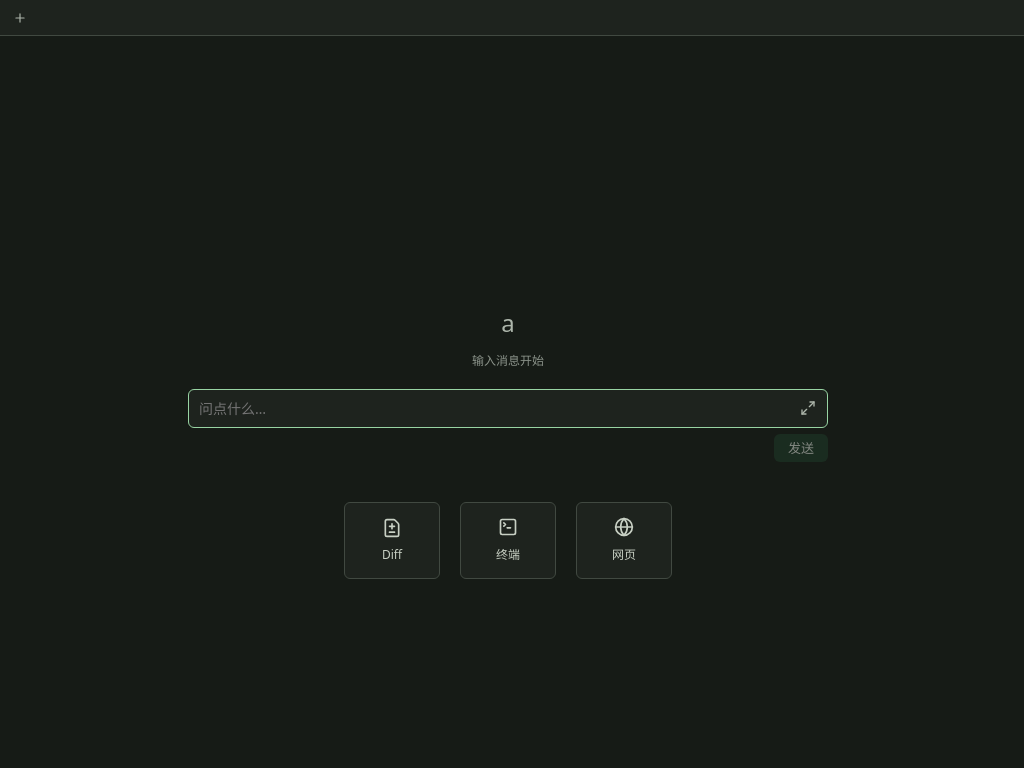
Test: 专注模式（design-focus-mode） › 专注模式复用原发送按钮（§3.2 变形语义）：面板内无发送钮，点底部发送行发送并退回
The image size is (1024, 768).
Type "专注内发送" into the text box with placeholder "问点什么…".
click(495, 408); type("专注内发送")  # box [197,395,793,422]
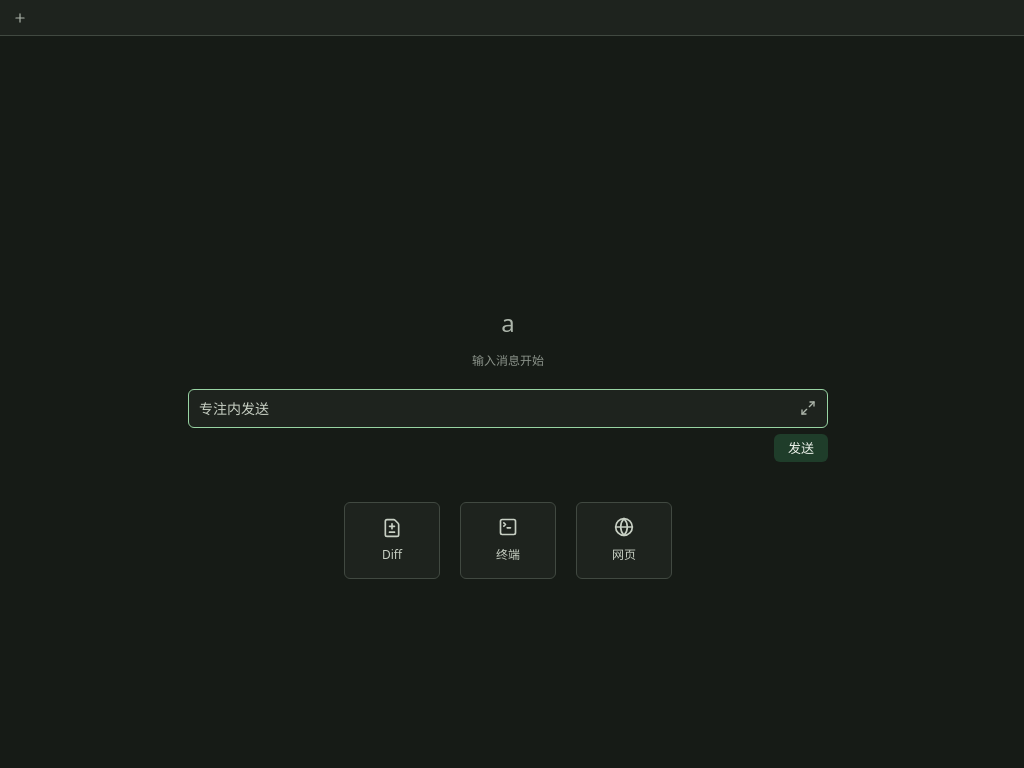
Click the button with class "focus-enter".
click(808, 408)  # box [797,397,819,419]
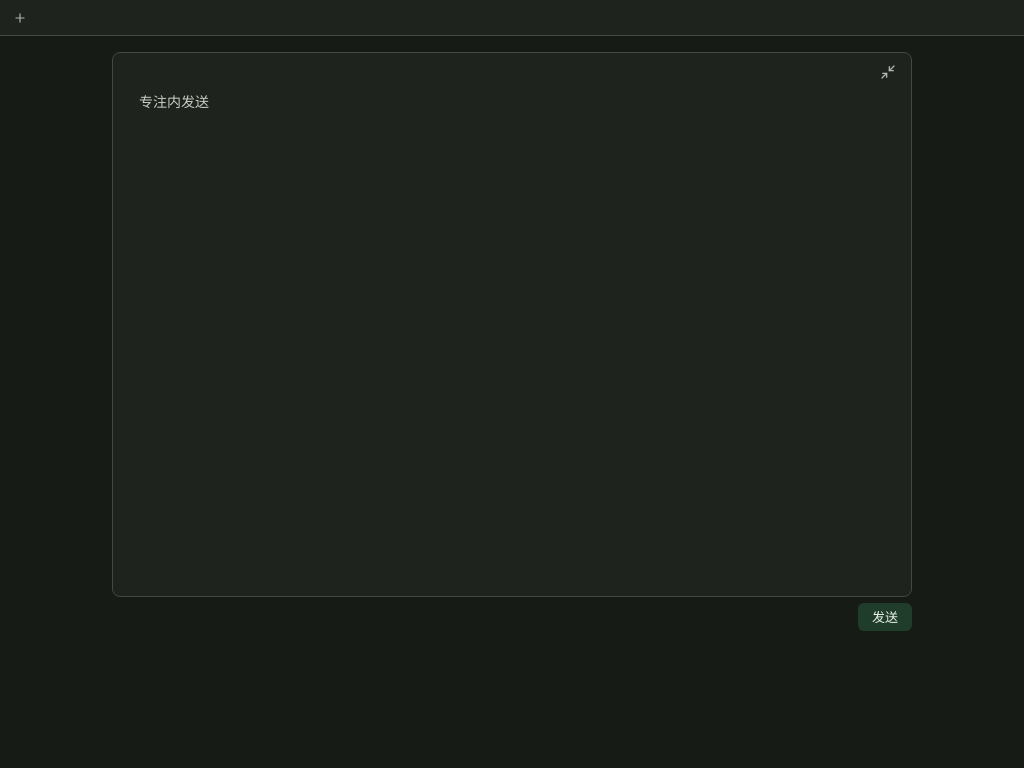
Expected: the button "发送" is enabled
Expected: the element with class "focus-sendbar" is shown
Click the button "发送".
click(885, 616)  # box [858,602,912,630]
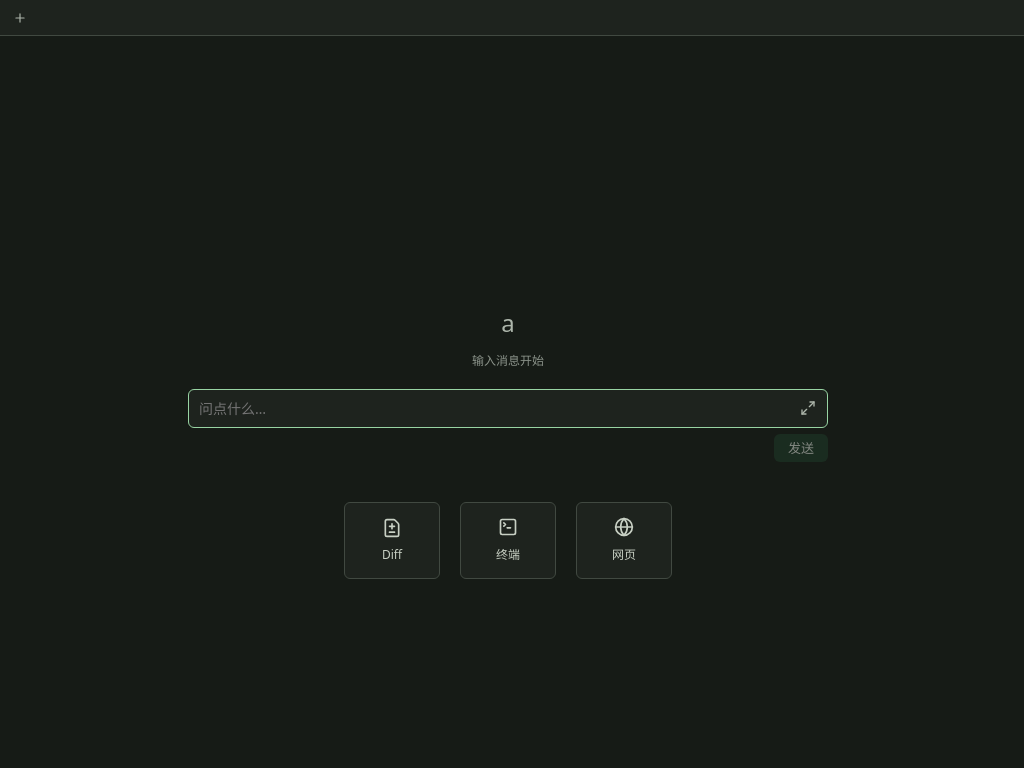
Expected: the element with class "focus-composer" is gone
Expected: the element with class "focus-sendbar" is gone
